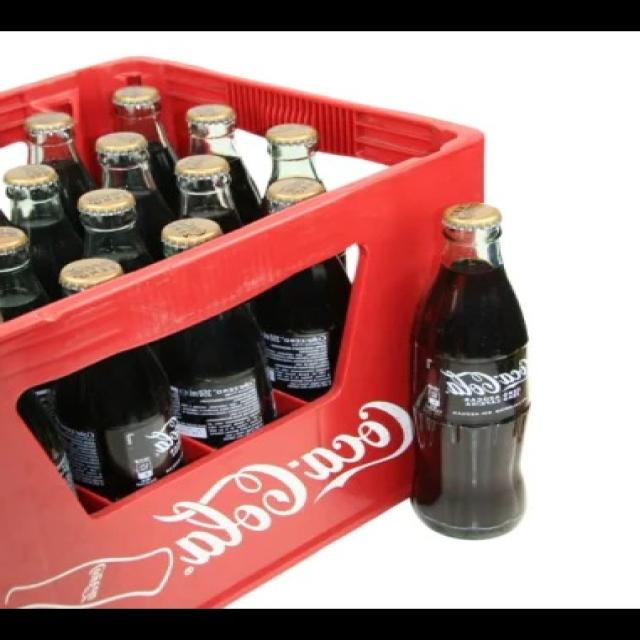coca cola: (157, 398, 414, 582), (435, 352, 530, 406)
